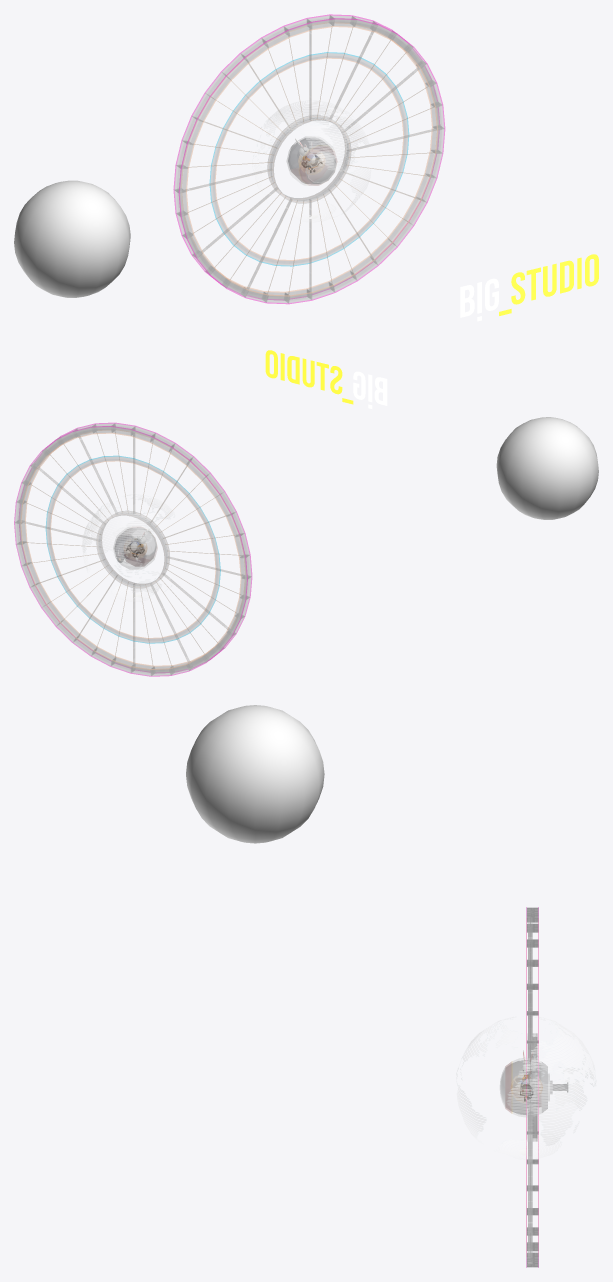
The model's file is all1.glb.
3 views of the same model, one above another, from view 1: azimuth 30°, elevation 25°; view 2: azimuth 150°, elevation 25°; view 3: azimuth 270°, elevation 25° (orthographic). The views are drawn at different scales.
Visible parts, largest first — view 1: Ferris_wheel, earth_ball, earth_ball_light, logo2, fw_ball, logo1, fw_ball_glass; view 2: Ferris_wheel, earth_ball, earth_ball_light, fw_ball, logo2, logo1; view 3: earth_ball, earth_ball_light, Ferris_wheel, fw_ball.
Part boxes in pixels (left/top/right/bottom): Ferris_wheel: left=173, top=14, right=444, bottom=303; earth_ball: left=14, top=180, right=130, bottom=297; earth_ball_light: left=252, top=100, right=370, bottom=221; logo2: left=499, top=254, right=598, bottom=315; fw_ball: left=286, top=136, right=337, bottom=185; logo1: left=460, top=278, right=498, bottom=321; fw_ball_glass: left=305, top=152, right=336, bottom=183; Ferris_wheel: left=14, top=423, right=251, bottom=676; earth_ball: left=496, top=417, right=598, bottom=519; earth_ball_light: left=82, top=494, right=174, bottom=601; fw_ball: left=113, top=526, right=157, bottom=569; logo2: left=265, top=350, right=353, bottom=404; logo1: left=353, top=371, right=387, bottom=408; earth_ball: left=186, top=705, right=324, bottom=843; earth_ball_light: left=456, top=1016, right=596, bottom=1159; Ferris_wheel: left=526, top=907, right=538, bottom=1267; fw_ball: left=505, top=1058, right=567, bottom=1117.
Size of the model in its own units: 122 by 61.53 by 97.
Materials: 10 (5 with a texture image).
